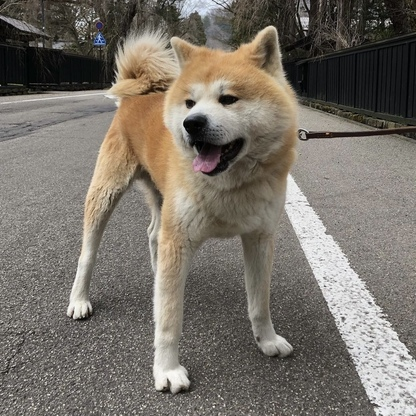akita: (64, 19, 306, 401)
